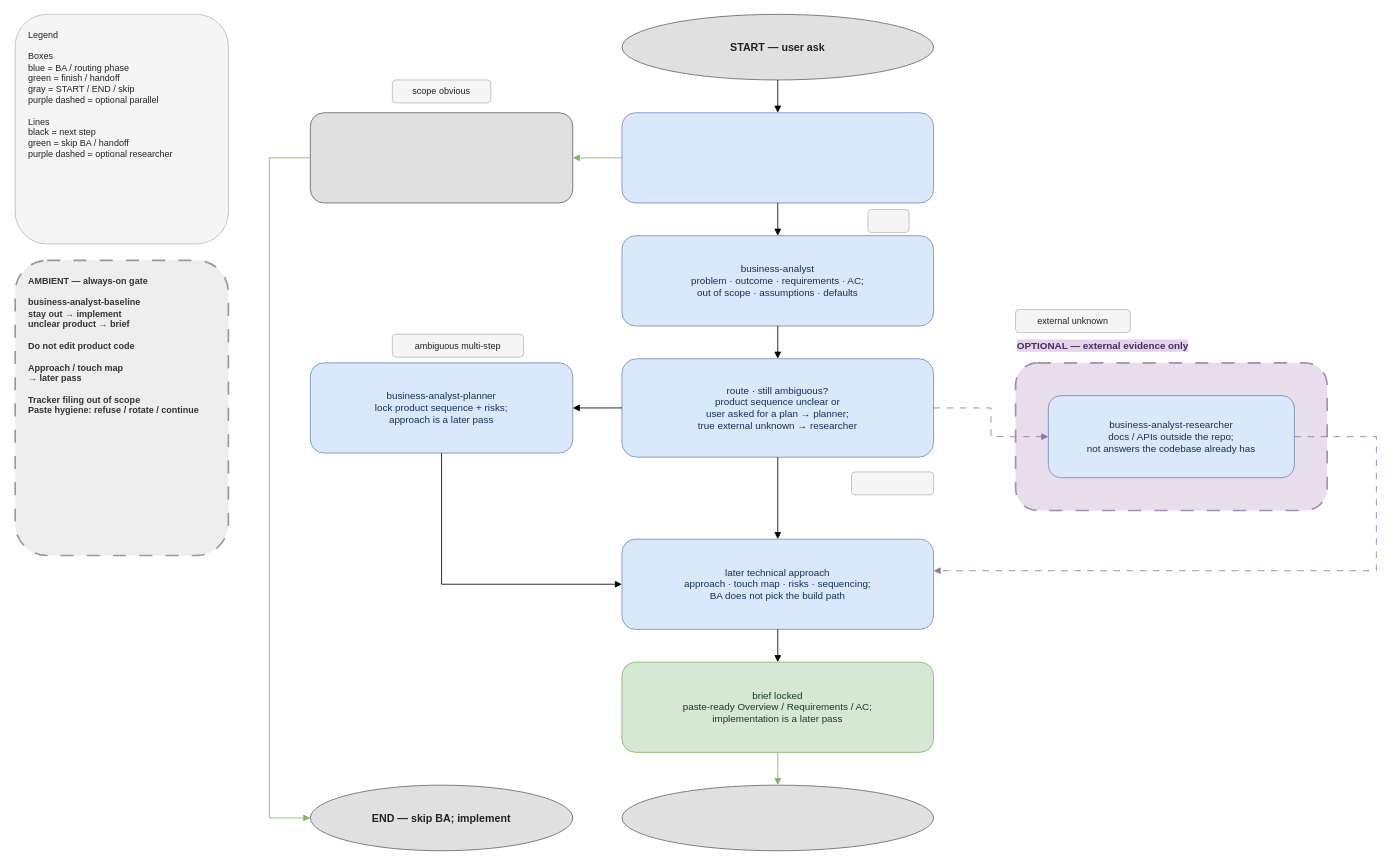
This 1397x865 diagram has some shape labels left out. Here are the shapes that lost their labels. From the top down, the centre of each, then its label:
At [441,157]: "skip BA scope already obvious; trivia / single-file / labels".
At [777,157]: "gate · need BA? unclear product ask / Story shaping / “what should we build”".
At [888,220]: "yes".
At [892,483]: "brief enough".
At [777,817]: "END — brief/plan ready".
